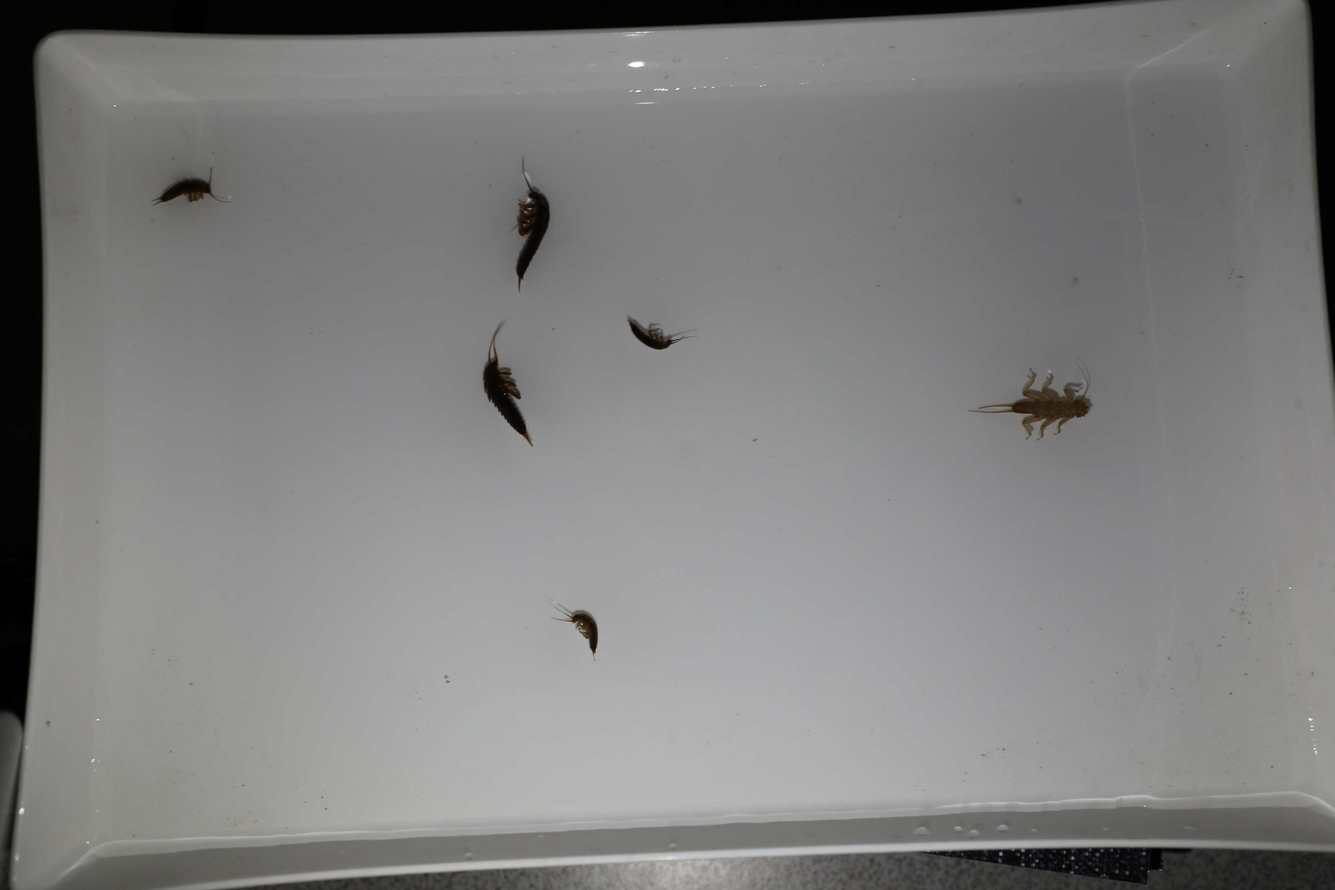Stonefly: (964, 363, 1096, 451), (482, 317, 538, 454), (505, 152, 550, 297), (152, 162, 228, 211), (550, 596, 599, 665), (626, 310, 689, 353)
